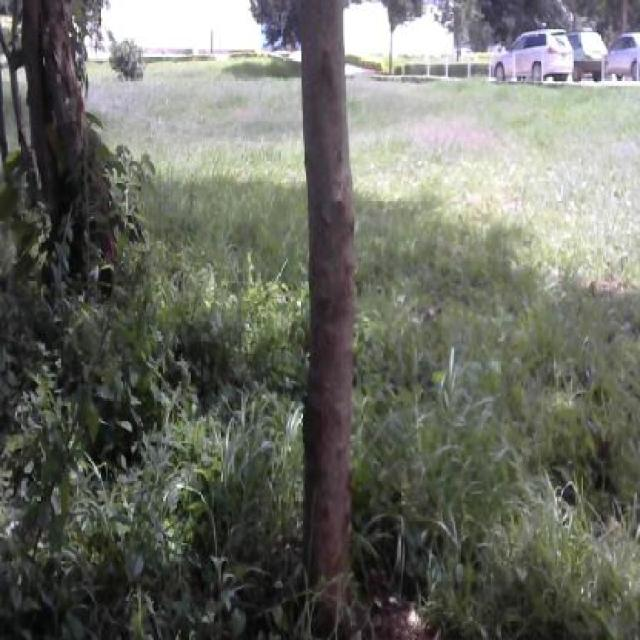tree trunk: (281, 12, 377, 625)
